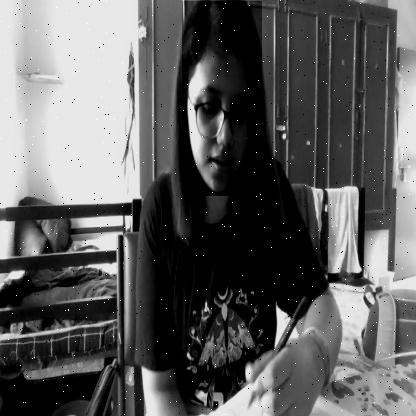Distracted: (182, 1, 262, 196)
